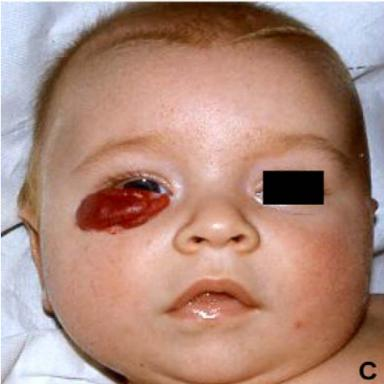Hemangiome: (76, 187, 169, 232)
